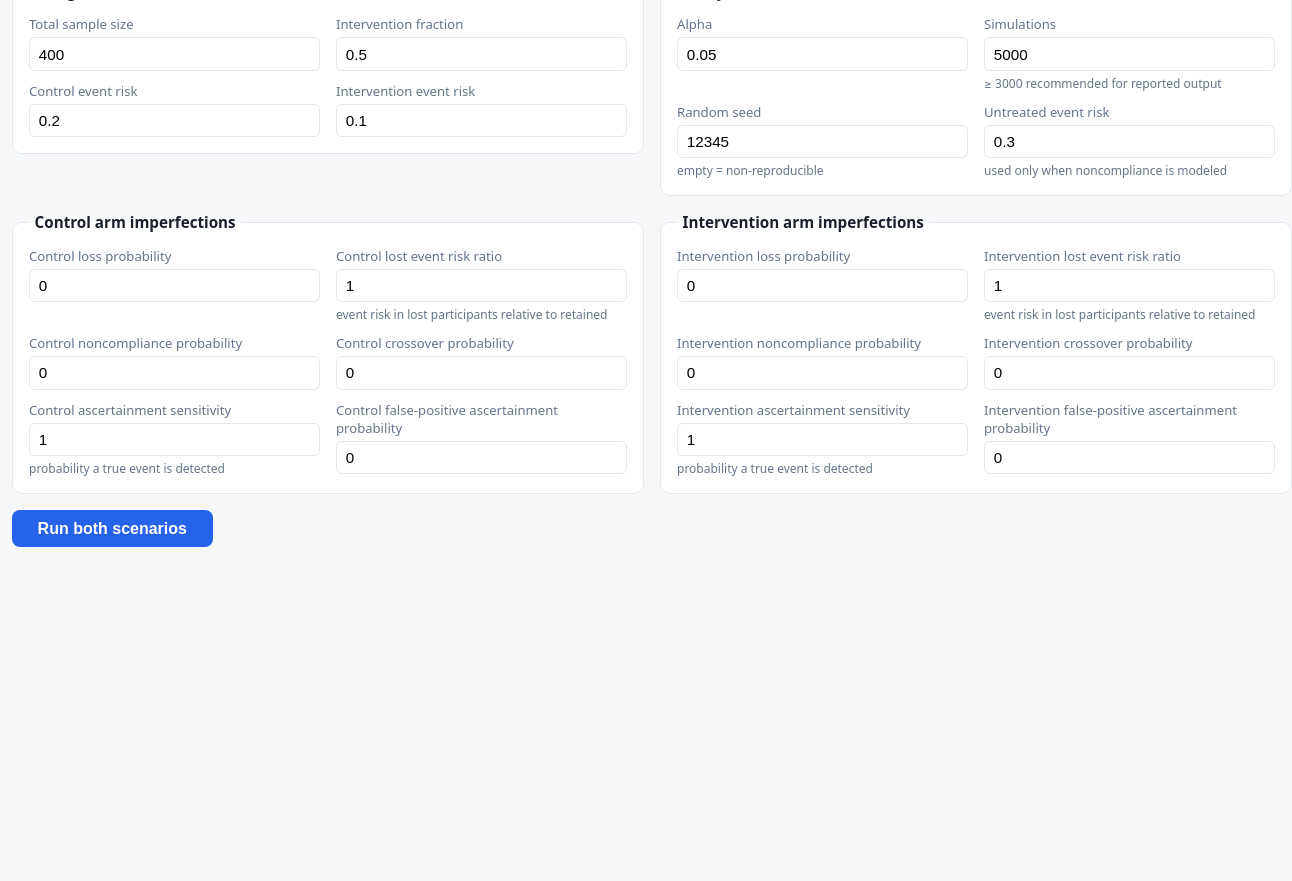
Test: TrialGoesBadly › simulates both scenarios and renders the side-by-side comparison
Click the button with test id "run-button".
click(112, 529)  # box [12, 510, 212, 547]
(page scrolled)
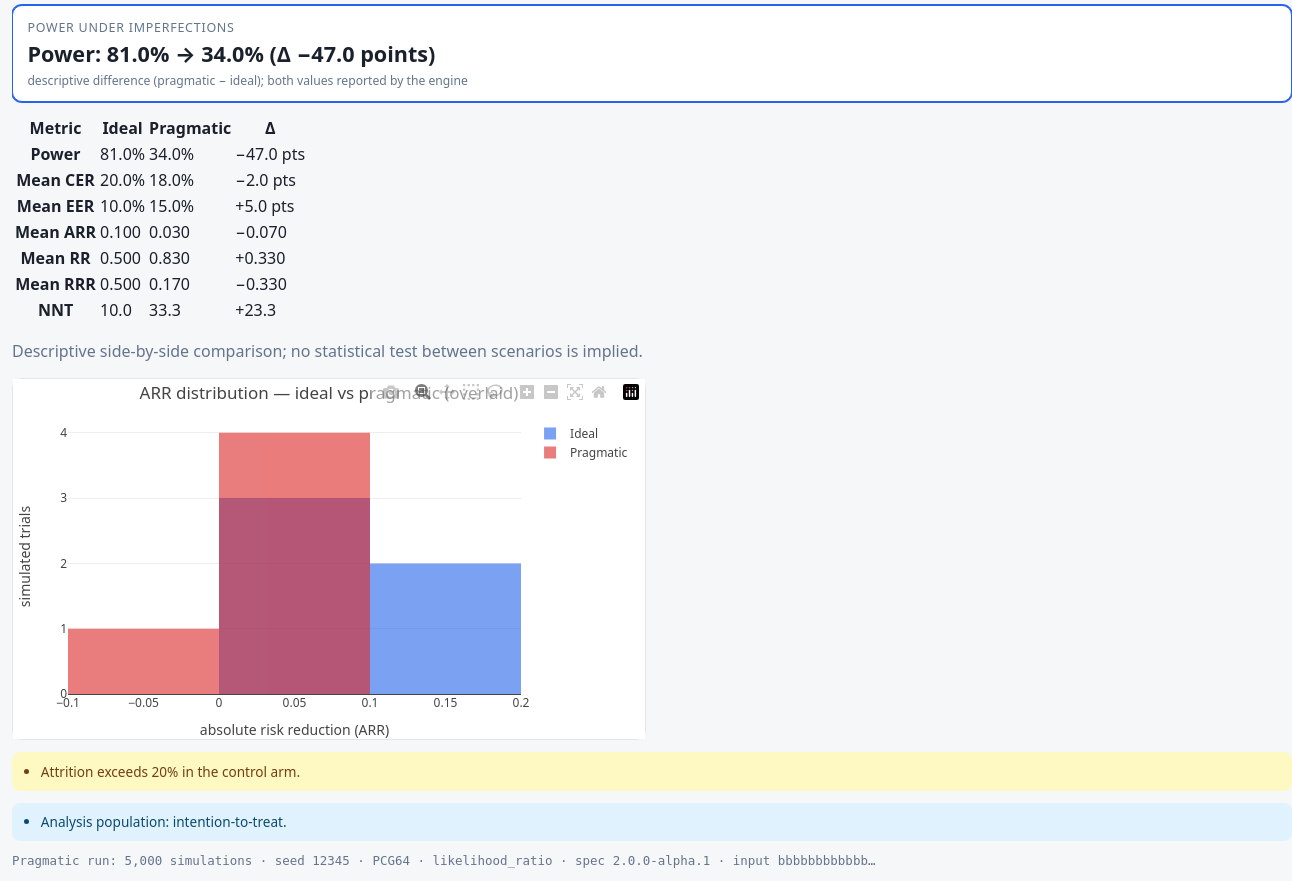
Check: the element with test id "results" is shown
Check: the row "Power 81.0% 34.0% −47.0 pts" is shown, box [14, 142, 306, 166]
Check: the row "NNT 10.0 33.3 +23.3" is shown, box [14, 298, 306, 322]
